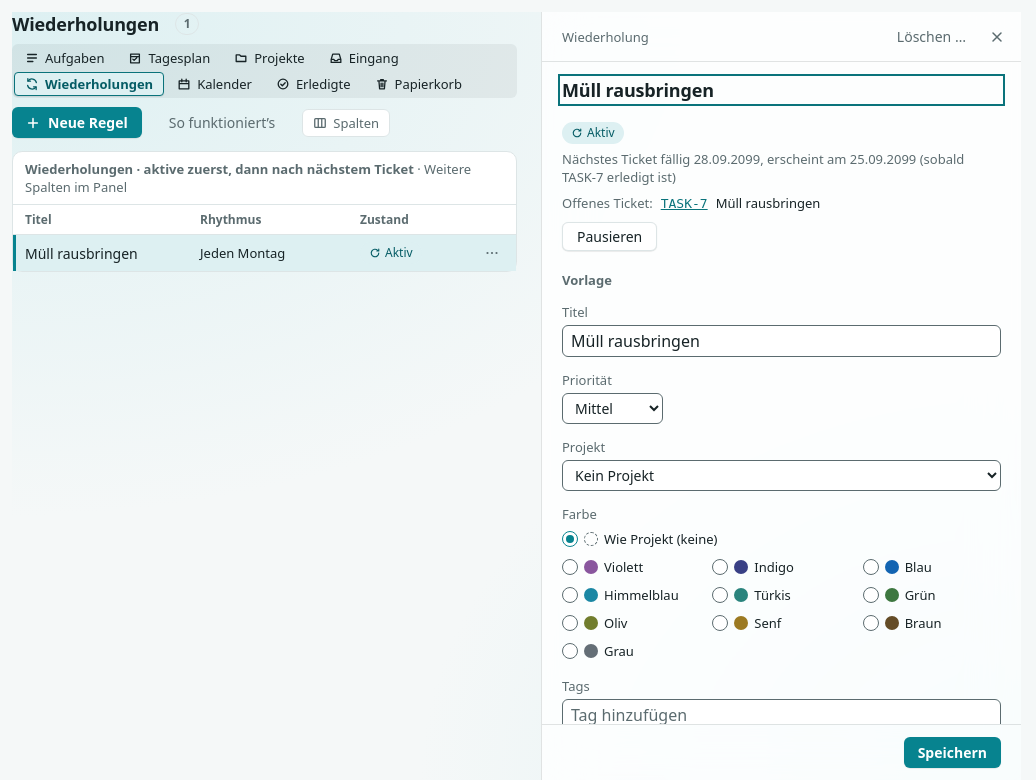
Test: route /wiederholungen › saves the template and pauses the rule with flags
The width and height of the screenshot is (1036, 780).
Replace the text in the field labelled "Titel" with "Müll (gelb)" at point(782, 340), box [562, 324, 1001, 356]
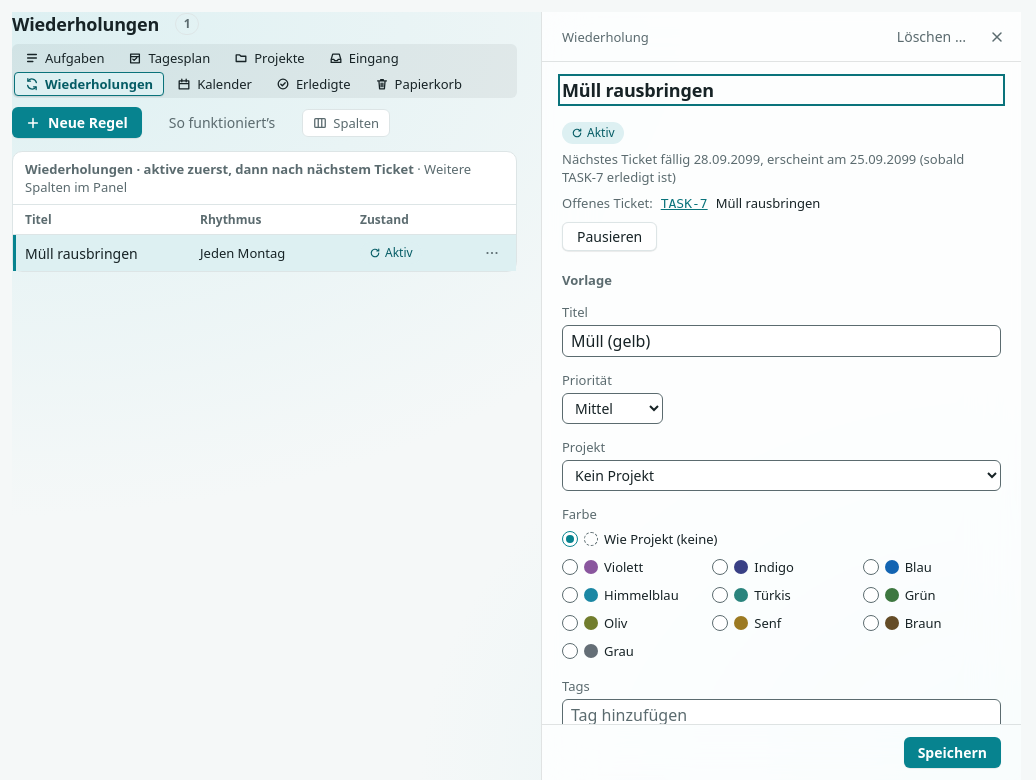
Click the button "Speichern" at point(952, 752), box [904, 737, 1001, 768]
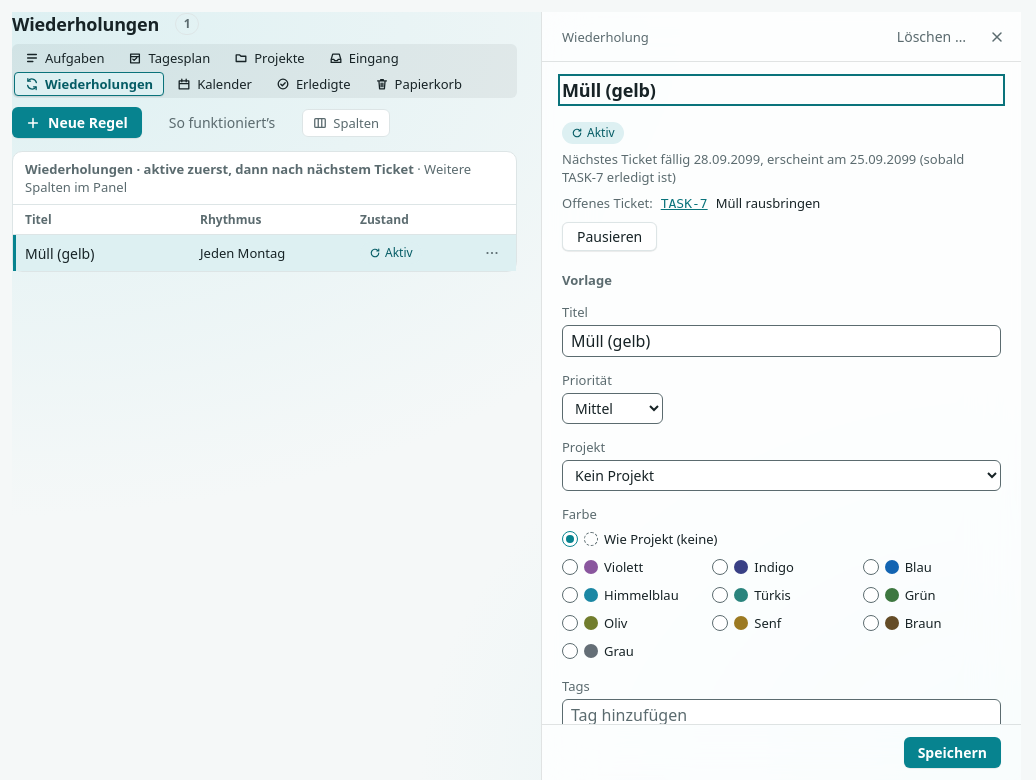
Click the button "Pausieren" at point(610, 236), box [562, 222, 657, 250]
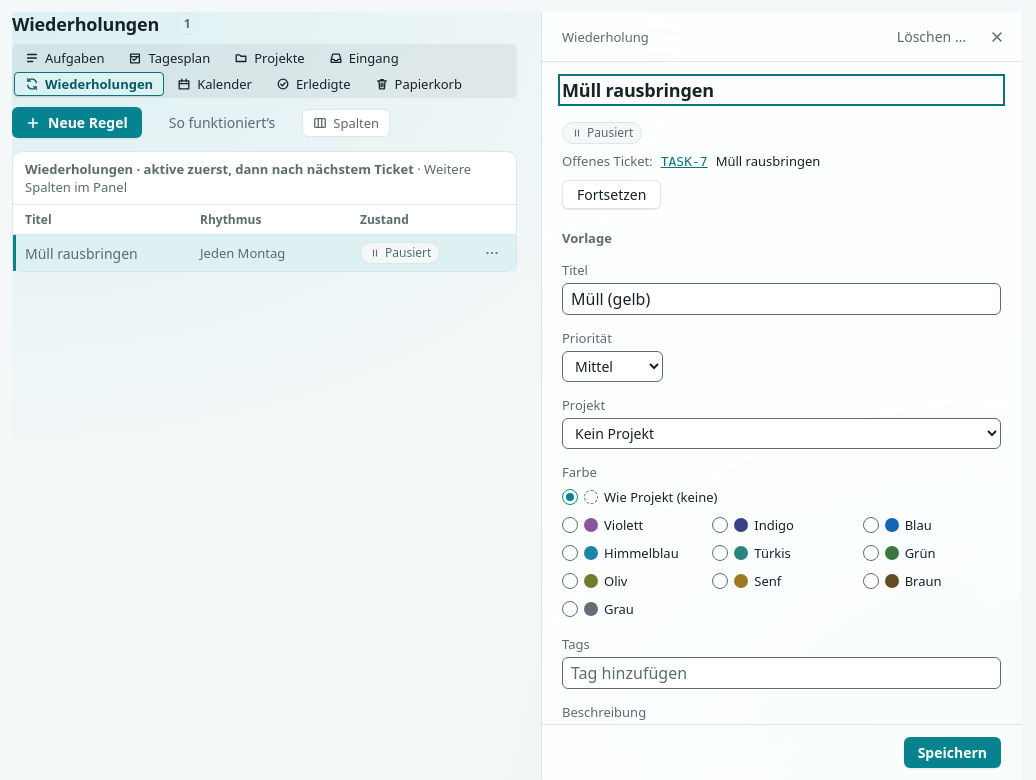
Expected: the 1st text "Pausiert" is shown, [587, 123, 633, 143]
